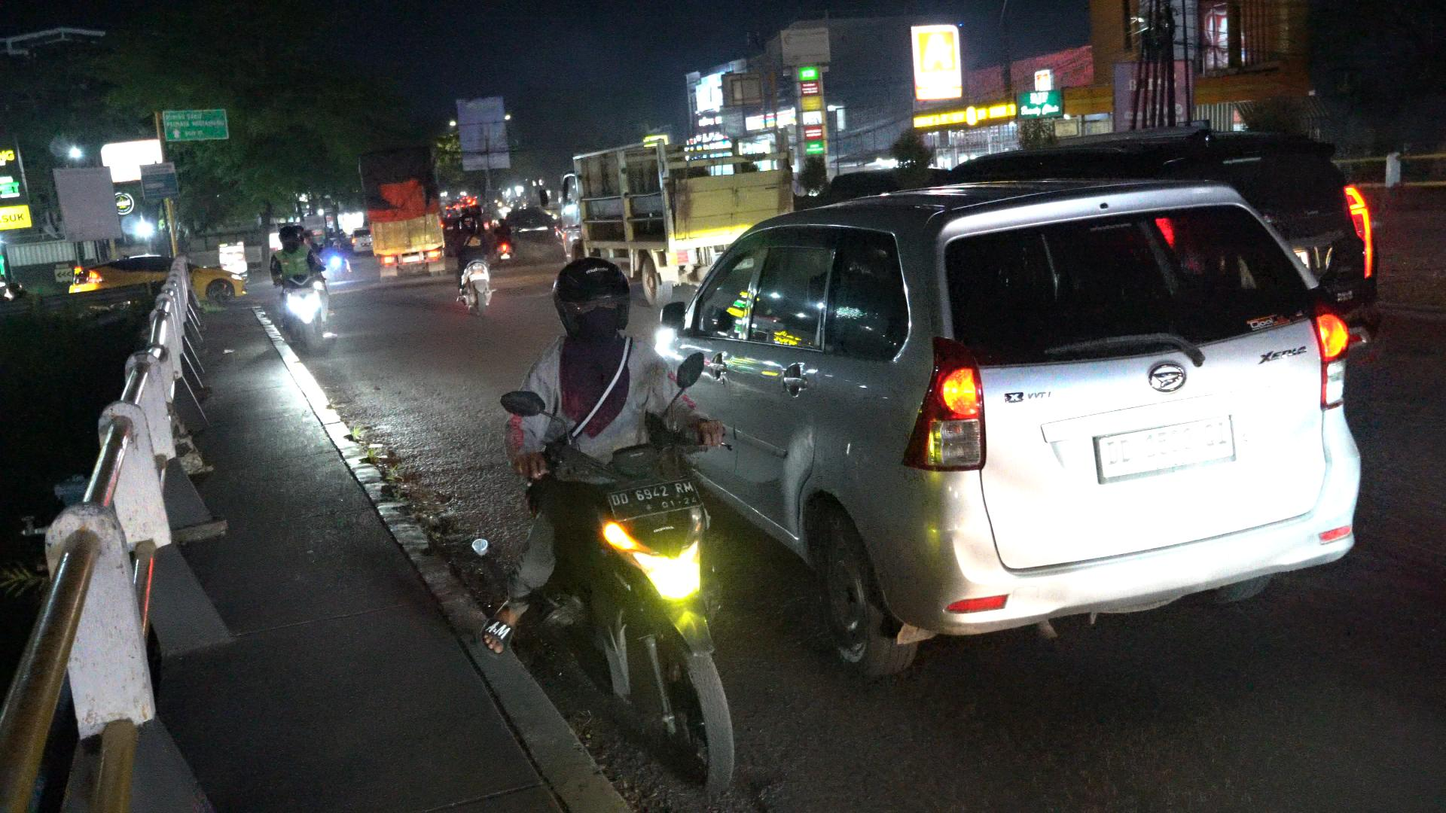number-plate: (601, 475, 706, 520)
